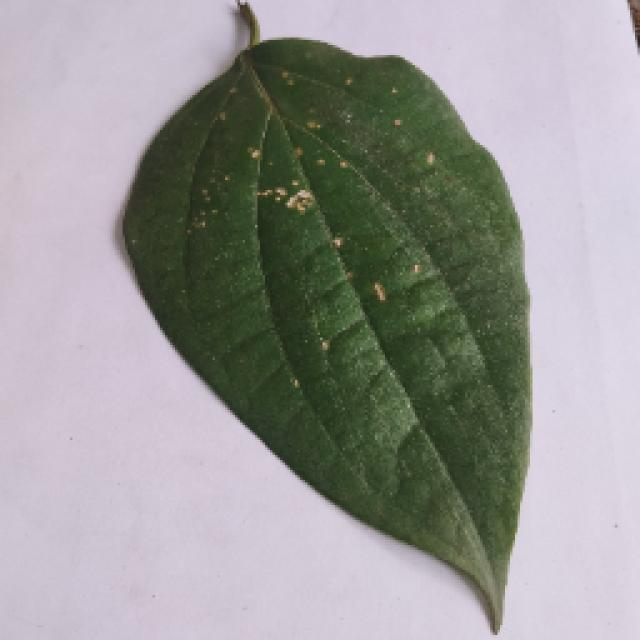pollu-disease: (118, 10, 528, 630)
